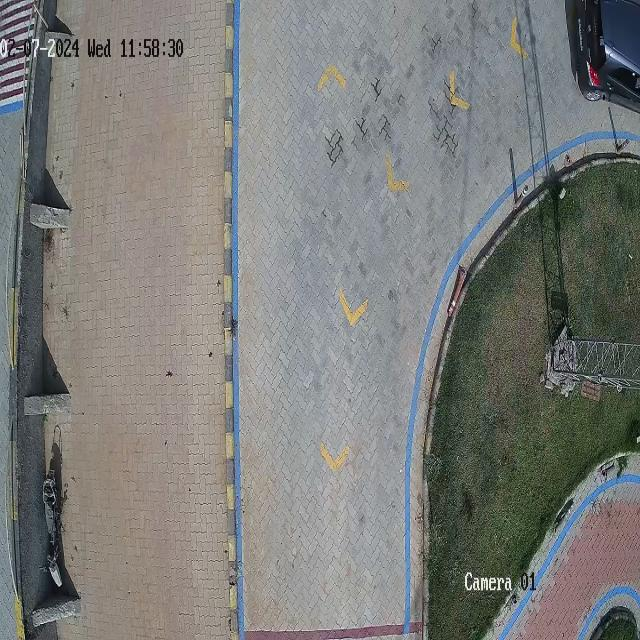car: (565, 0, 640, 112)
